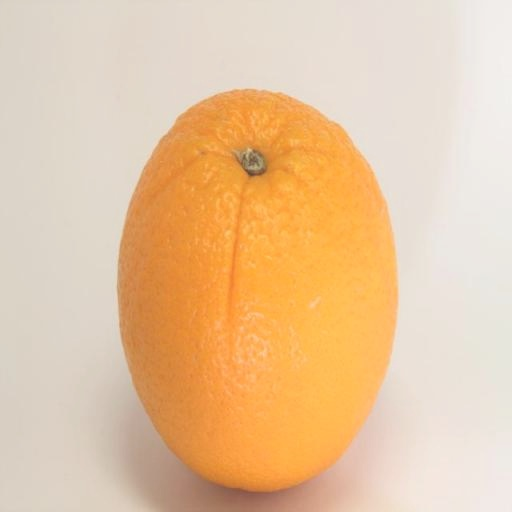fruit: (119, 90, 396, 490)
